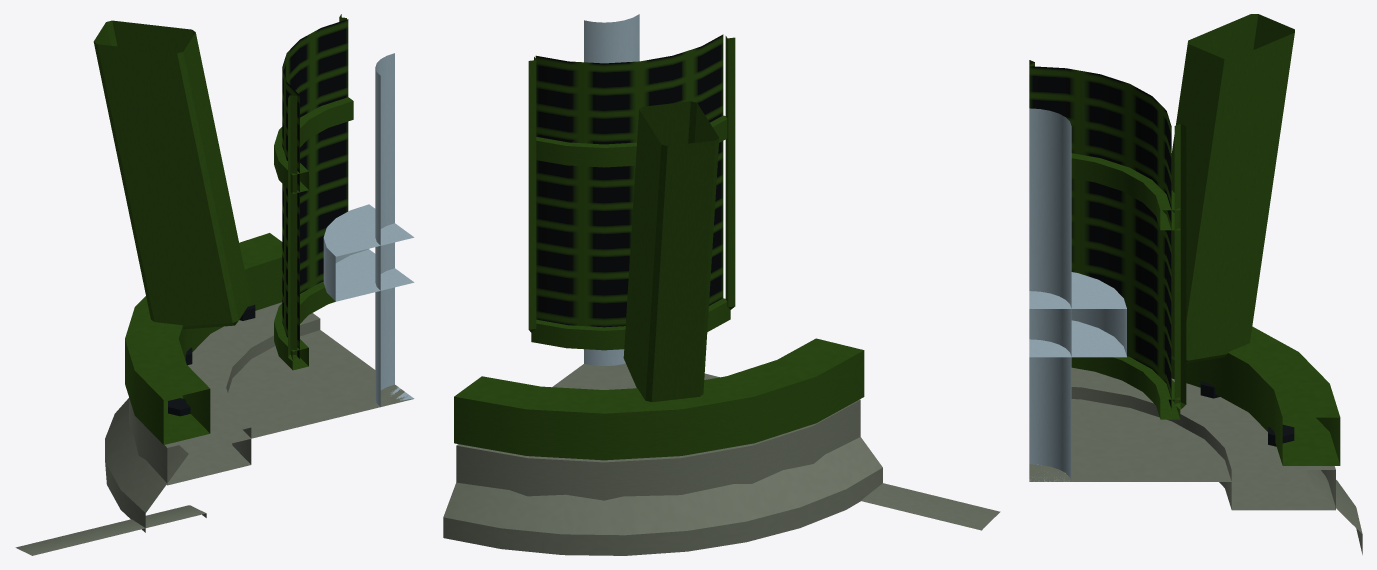
File: cell_9.obj
The picture shows the model from 3 angles, left to right: view 1: azimuth 30°, elevation 25°; view 2: azimuth 150°, elevation 25°; view 3: azimuth 270°, elevation 25°; orthographic projection. The views are drawn at different scales.
Visible parts, largest first — view 1: cell_9; view 2: cell_9; view 3: cell_9.
Boxes of the visible parts, bbox=[...] form: cell_9: bbox=[15, 14, 414, 555]; cell_9: bbox=[443, 14, 1000, 555]; cell_9: bbox=[1029, 14, 1362, 554].
Bounding box in the file's own units: 1 × 1 × 0.7031.
